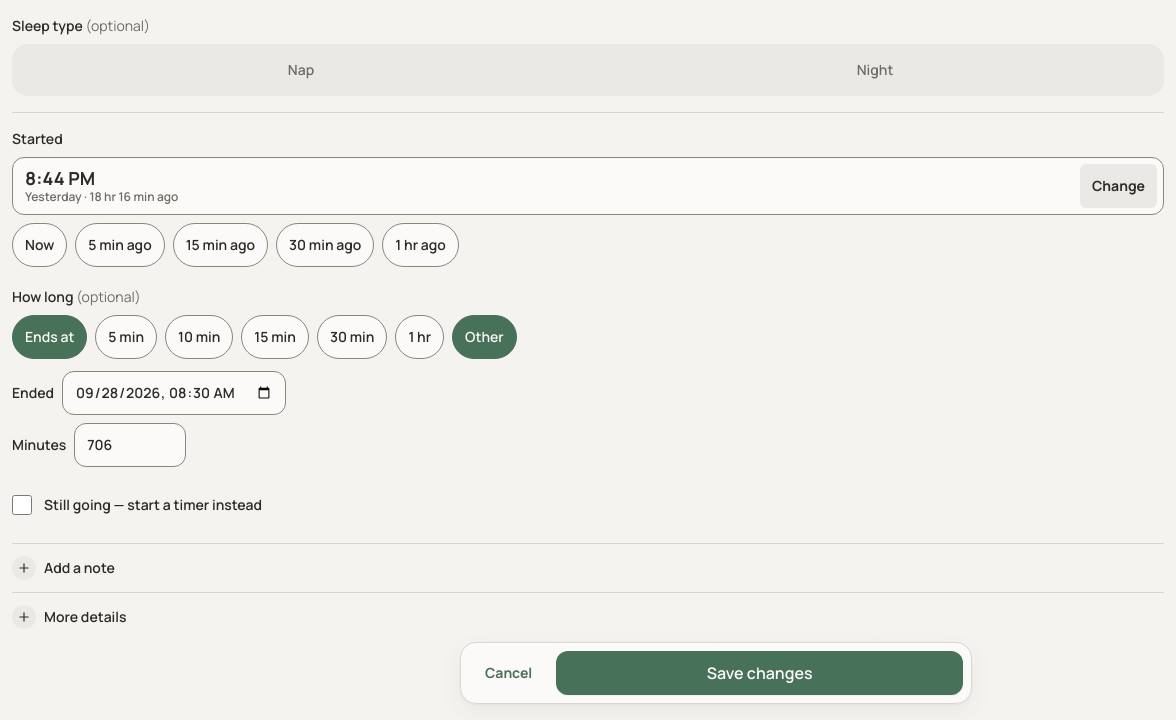
setting how long an activity lasted by its end time › names the day when an activity ends on a different one
The image size is (1176, 720).
Note: The summary is the collapsed view of what the Ended field shows when open, so close it first.
Click the button "Ends at" at (50, 337), box [12, 315, 87, 359]
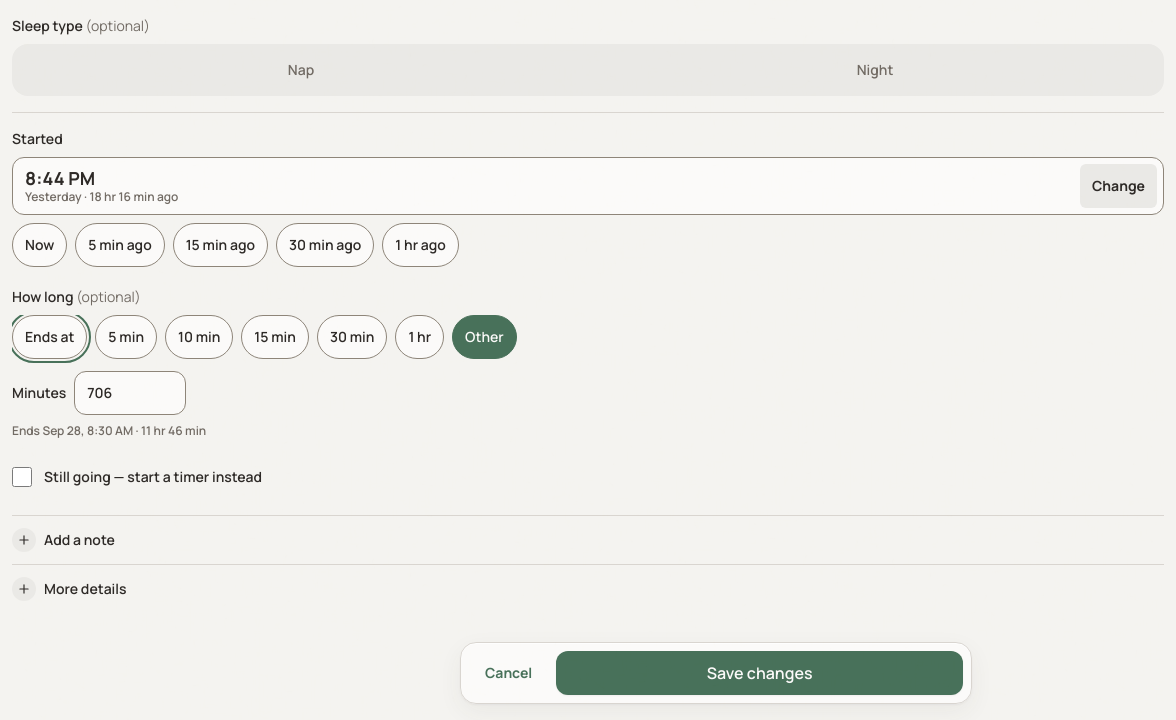
Expected: the text "Ends Sep 28, 8:30 AM · 11 hr 46 min" is shown, [12, 422, 206, 439]
